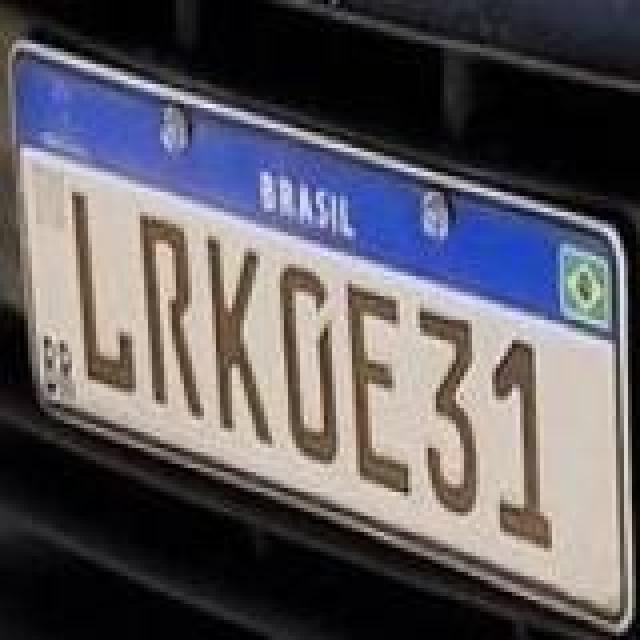1: (492, 338, 556, 558)
3: (418, 306, 478, 518)
D: (280, 262, 344, 466)
E: (344, 284, 408, 500)
K: (206, 236, 274, 452)
L: (70, 190, 138, 394)
R: (138, 212, 206, 420)
